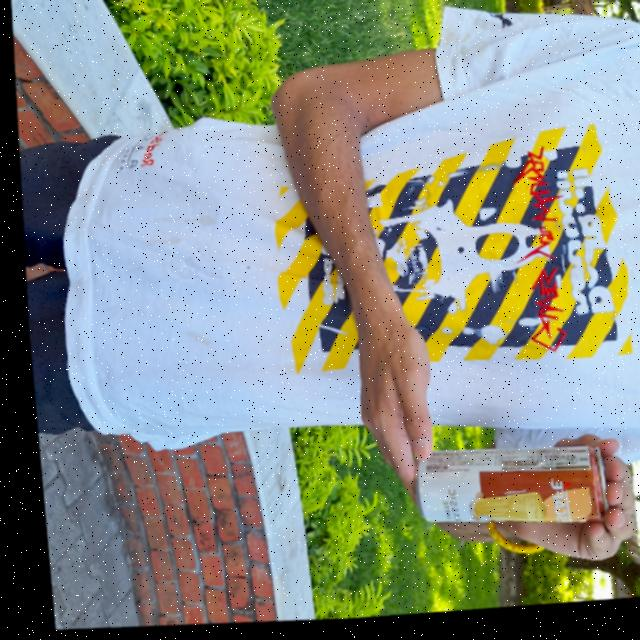Nescafe Classic Iced Latte: (403, 439, 597, 547)
